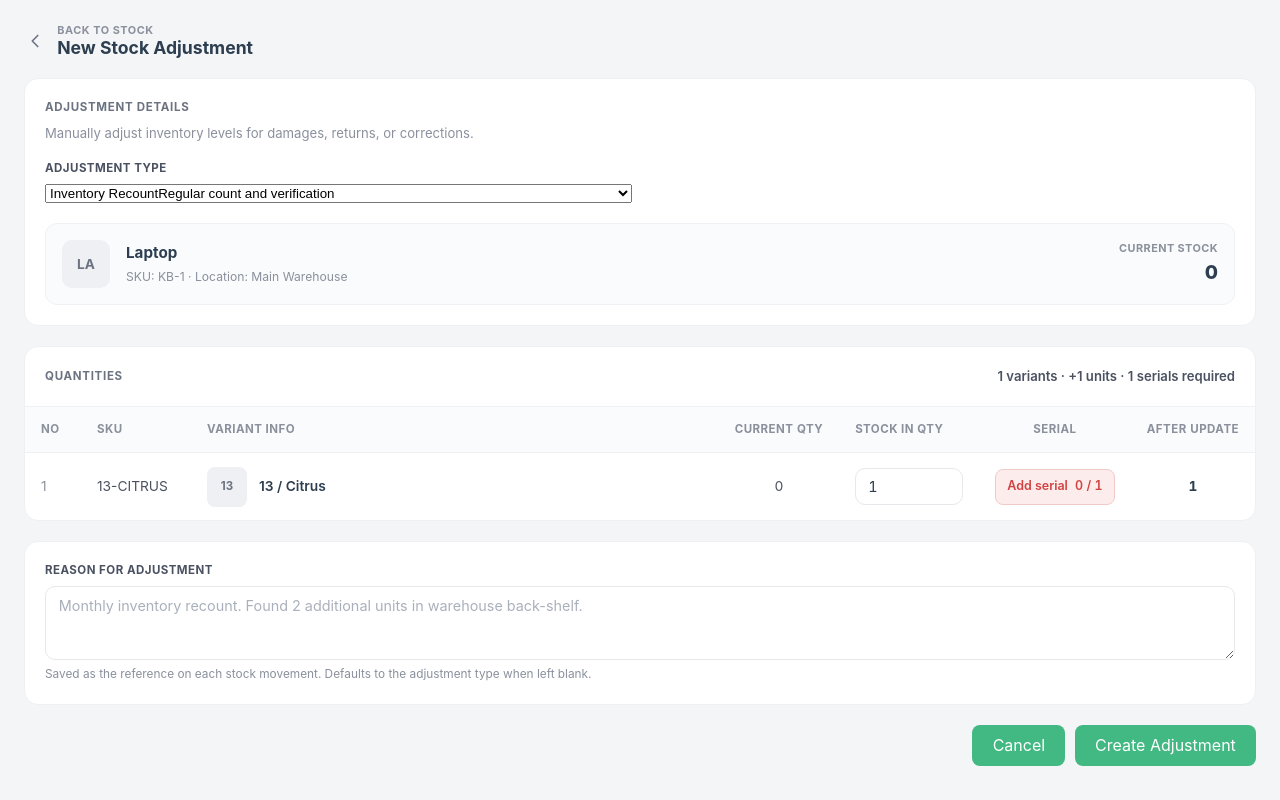
Scenario: StockAdjustmentFormView variant serials › lists the serials a variant already has and still asks for one per unit added
Replace the text in the number field named "Quantity change for 13 / Citrus" with "3" at (909,486), box [855,468,963,505]
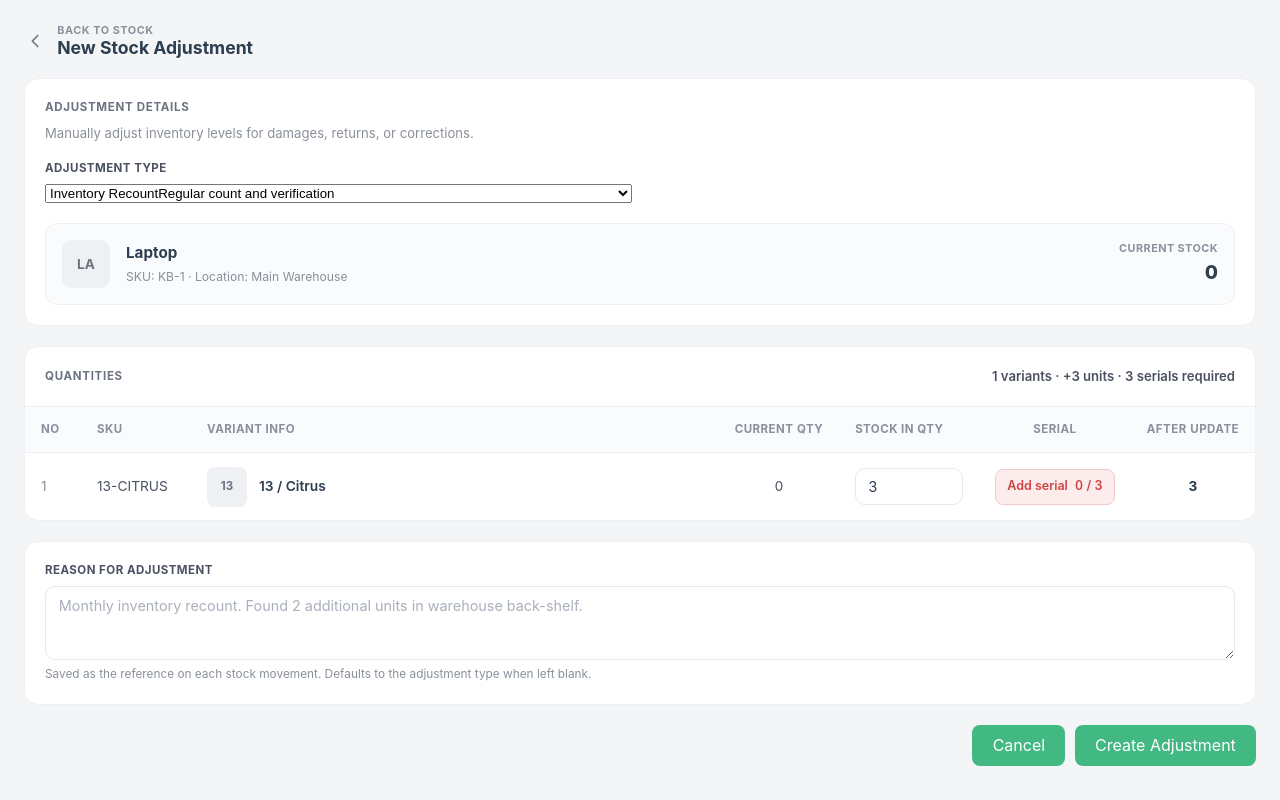
Expected: the text with class "serial-trigger__label" reads "Add serial", [1007,478,1068,493]
Now the text with class "serial-trigger__count" reads "0 / 3", box [1075,478,1103,493]
Click the button with class "serial-trigger".
click(1055, 486)  # box [995,468,1115,504]
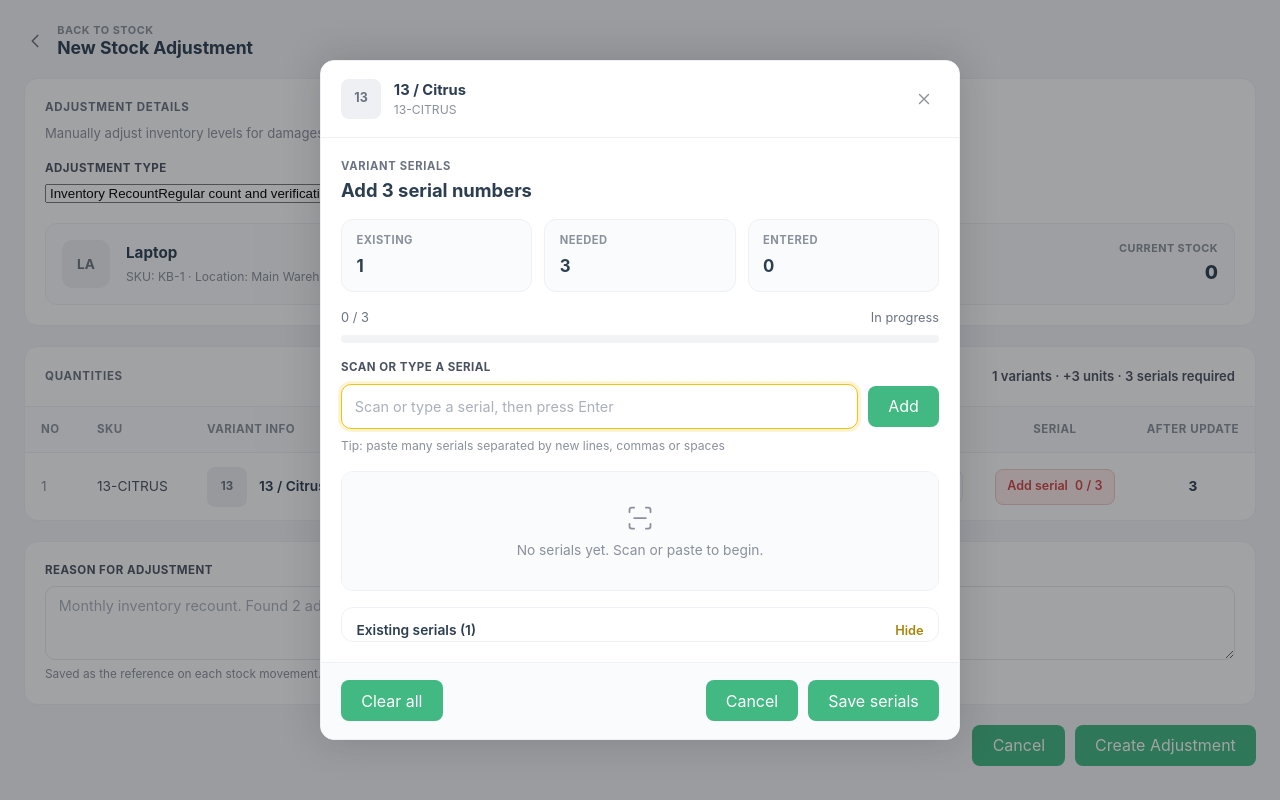
Now the heading with id "serial-modal-title" reads "Add 3 serial numbers", box [341,179,532,201]
Now the field with id "serial-modal-input" is enabled, box [341,384,858,429]
Now the button with class "serial-modal__existing-toggle" shows "Existing serials (1)", box [342,608,938,642]
